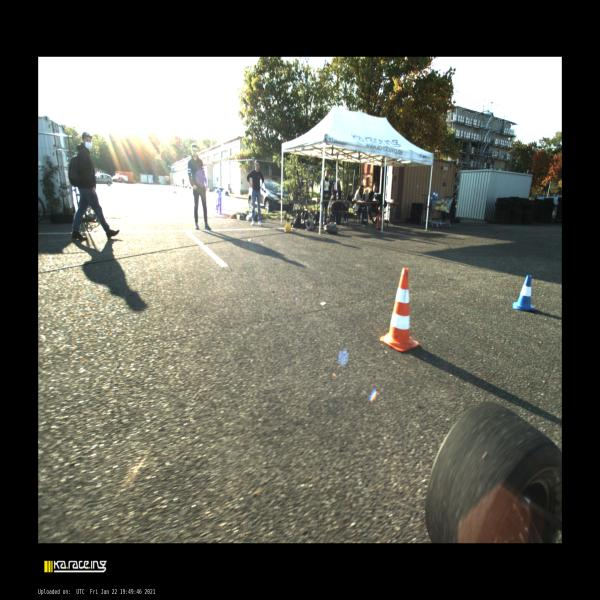blue_cone: (513, 275, 535, 311), (436, 191, 438, 199), (433, 190, 435, 198), (430, 194, 432, 200)
large_orange_cone: (380, 267, 419, 351)
yellow_cone: (285, 214, 291, 232), (441, 200, 444, 211), (444, 201, 447, 210), (438, 201, 441, 209), (436, 201, 438, 210)
